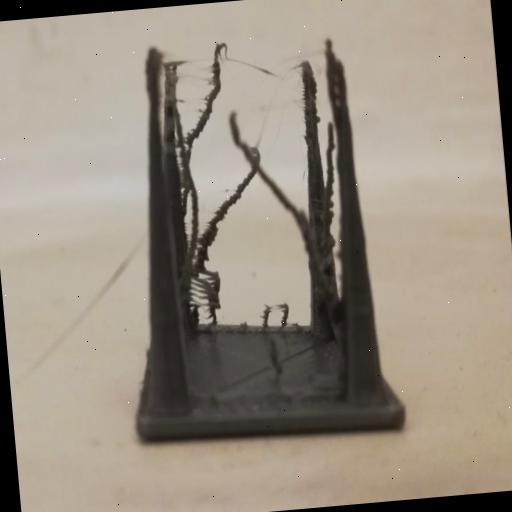stringing: (166, 33, 326, 339)
